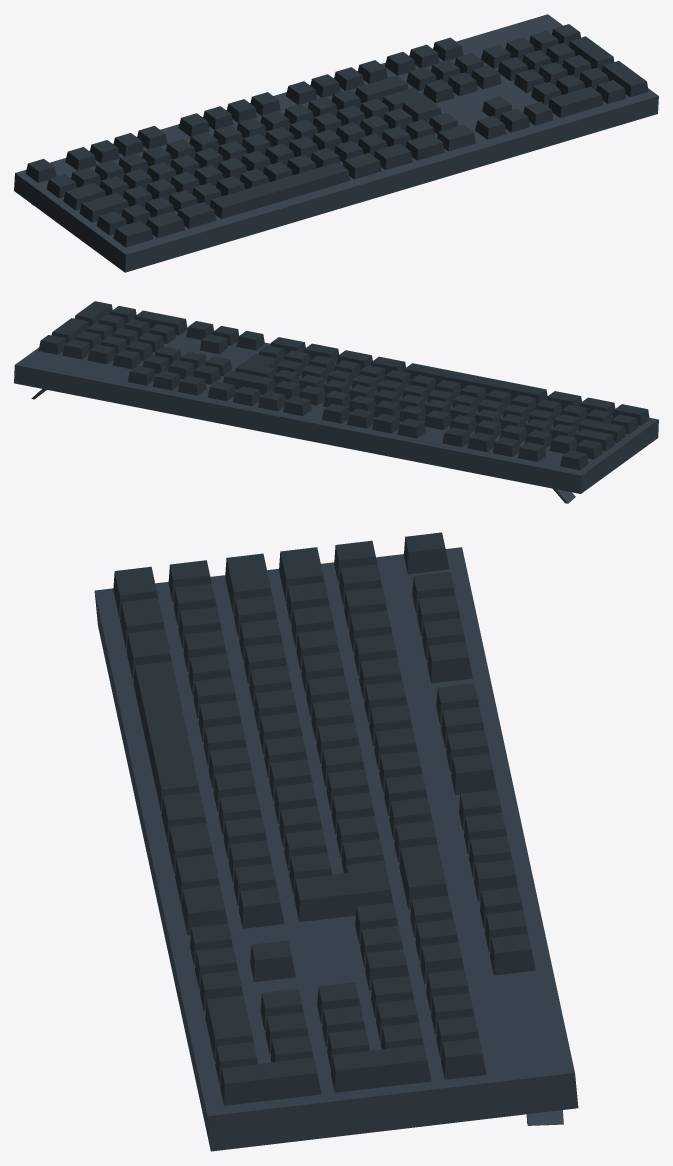
The model's file is Keyboard.glb.
3 views of the same model, one above another, from view 1: azimuth 30°, elevation 25°; view 2: azimuth 150°, elevation 25°; view 3: azimuth 270°, elevation 25° (orthographic). The views are drawn at different scales.
Parts seen in each view (by area): view 1: Keyboard; view 2: Keyboard; view 3: Keyboard.
Part boxes in pixels (<box>): Keyboard: <box>14,14,658,272</box>; Keyboard: <box>14,301,658,503</box>; Keyboard: <box>94,532,578,1151</box>.
Bounding box in the file's own units: 0.4552 × 0.0342 × 0.1724.
